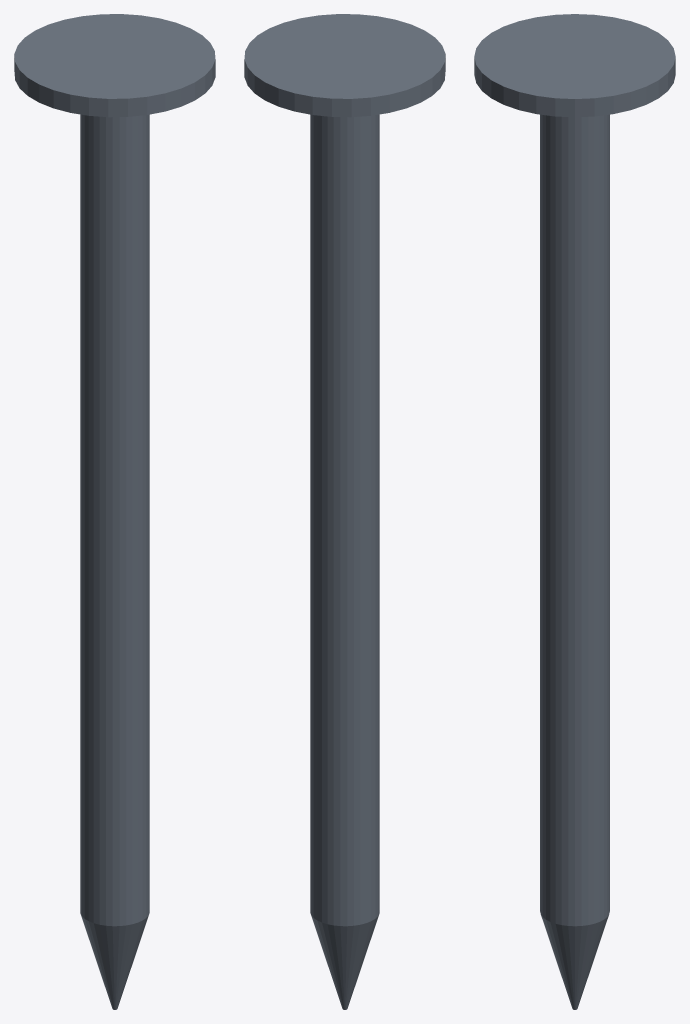
File: kugi.fbx
3 views of the same model, side by side, from view 1: azimuth 30°, elevation 25°; view 2: azimuth 150°, elevation 25°; view 3: azimuth 270°, elevation 25° (orthographic).
Parts seen in each view (by area): view 1: Cylinder; view 2: Cylinder; view 3: Cylinder.
Part boxes in pixels (left/top/right/bottom): Cylinder: left=14, top=14, right=215, bottom=1009; Cylinder: left=244, top=14, right=445, bottom=1009; Cylinder: left=474, top=14, right=675, bottom=1009.
Bounding box in the file's own units: 200 × 1043 × 200.
